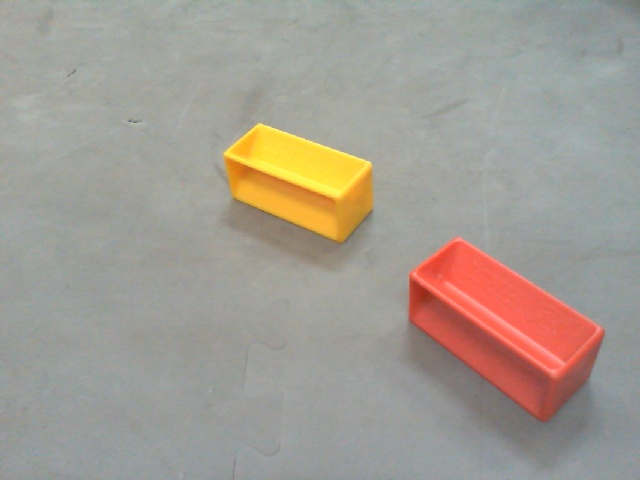RedSample: (406, 236, 607, 417)
YellowSample: (222, 120, 376, 245)
